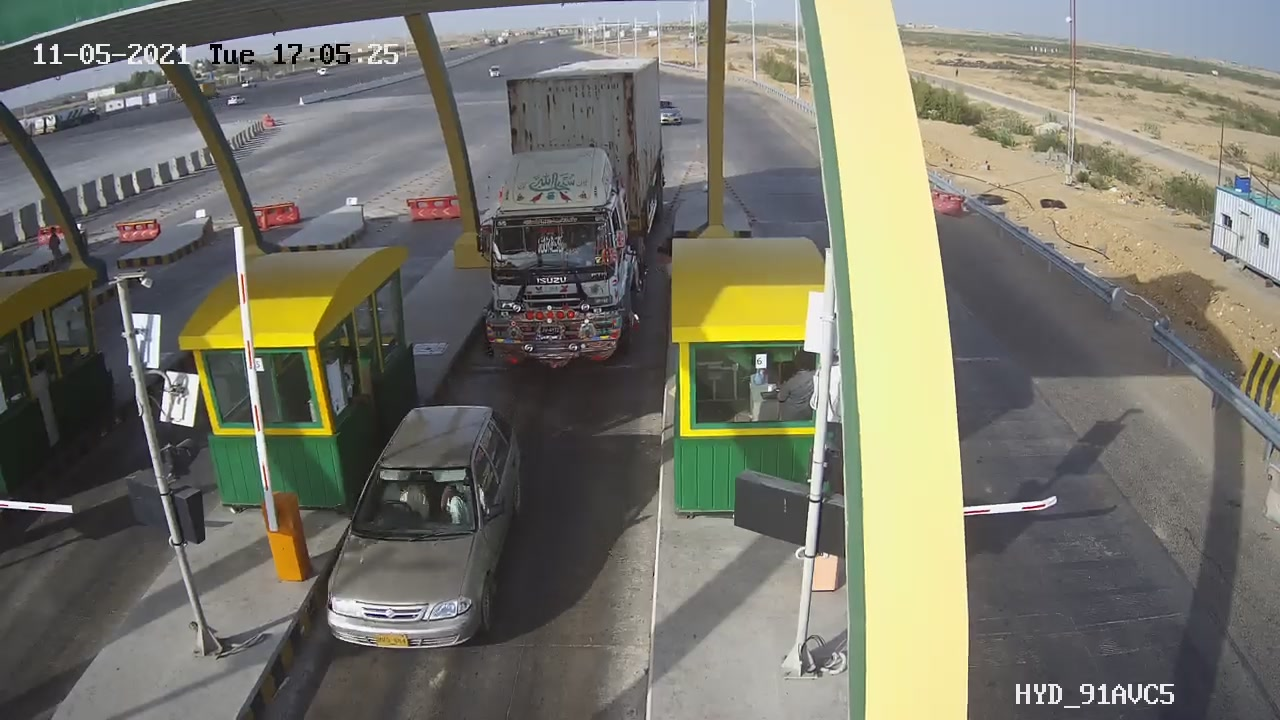F6: (459, 44, 678, 379)
